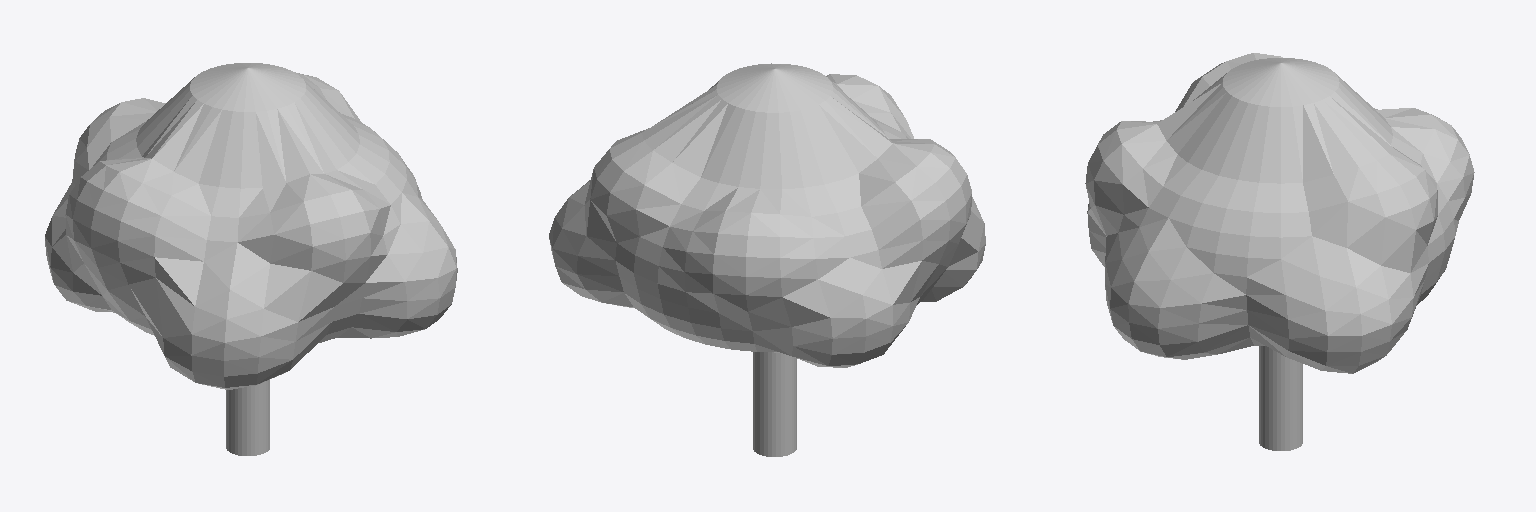
Rendered from tree.obj.
The picture shows the model from 3 angles: view 1: azimuth 30°, elevation 25°; view 2: azimuth 150°, elevation 25°; view 3: azimuth 270°, elevation 25°; orthographic projection.
Visible parts, largest first — view 1: rdmobj00.1; view 2: rdmobj00.1; view 3: rdmobj00.1.
Part boxes in pixels (x1,y1,x2,y2): rdmobj00.1: (45,63,457,455); rdmobj00.1: (549,63,985,456); rdmobj00.1: (1085,53,1474,450).
Bounding box in the file's own units: 683 × 677 × 630.